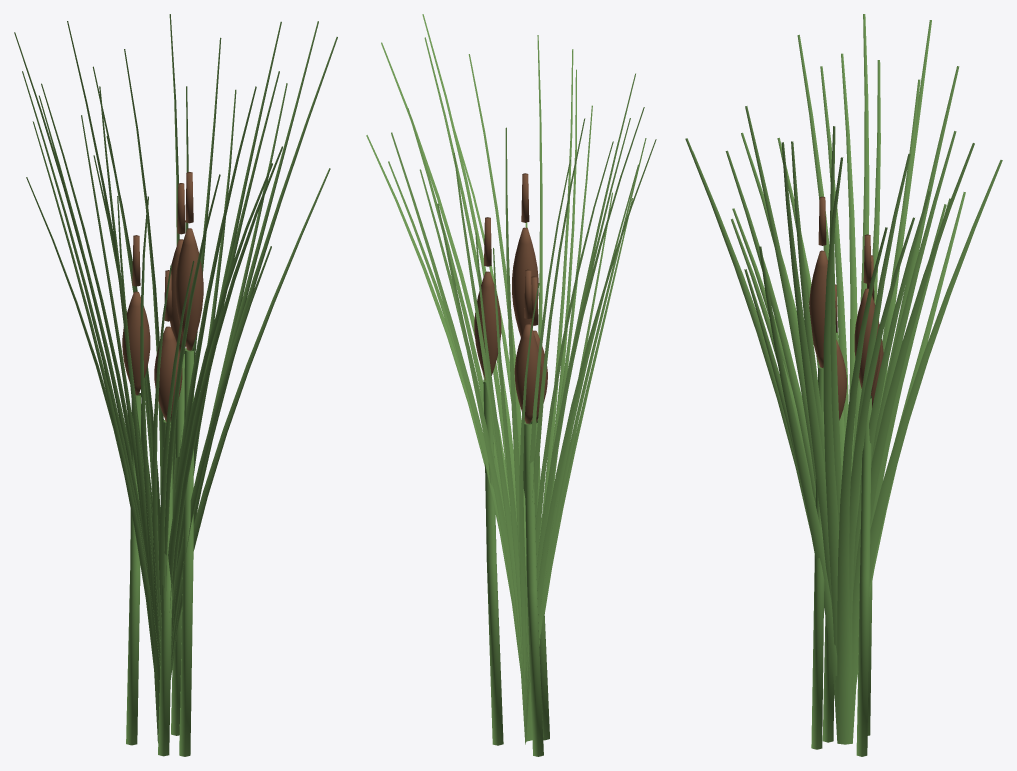
The model's file is aquatic_broadleaf_cattail.glb.
3 views of the same model, side by side, from view 1: azimuth 30°, elevation 25°; view 2: azimuth 150°, elevation 25°; view 3: azimuth 270°, elevation 25° (orthographic). The views are drawn at different scales.
Visible parts, largest first — view 1: Flora_Cattail; view 2: Flora_Cattail; view 3: Flora_Cattail.
Boxes of the visible parts, x1,y1,x2,y2 form: Flora_Cattail: [14, 14, 337, 756]; Flora_Cattail: [366, 14, 656, 756]; Flora_Cattail: [685, 14, 1002, 756].
Size of the model in its own units: 1.12 by 2.64 by 1.13.
